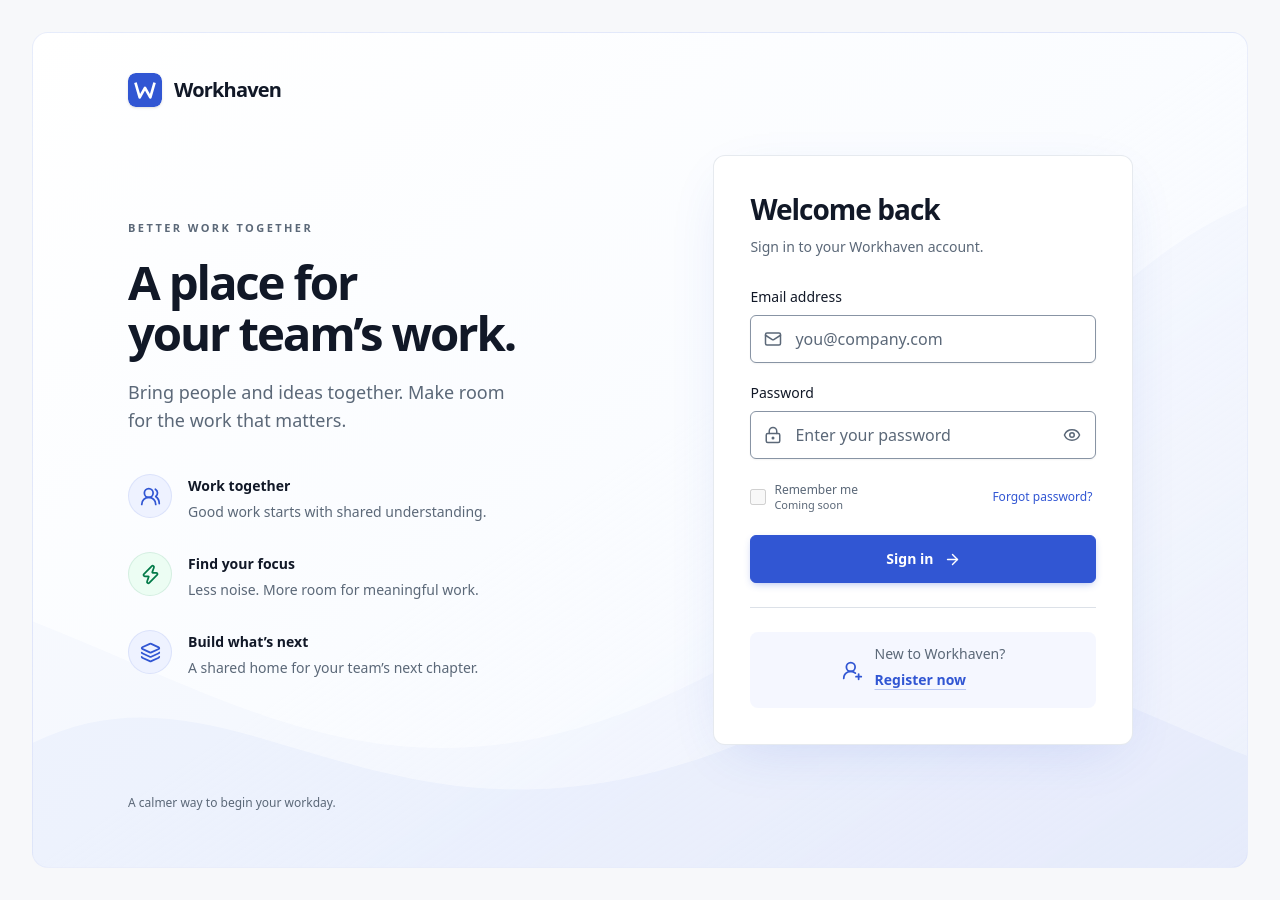
Test: browser session › prevents duplicate submissions and keeps the submit button focused while pending
Type "member@example.test" into the field labelled "Email address" at (923, 339), box [750,315,1096,363]
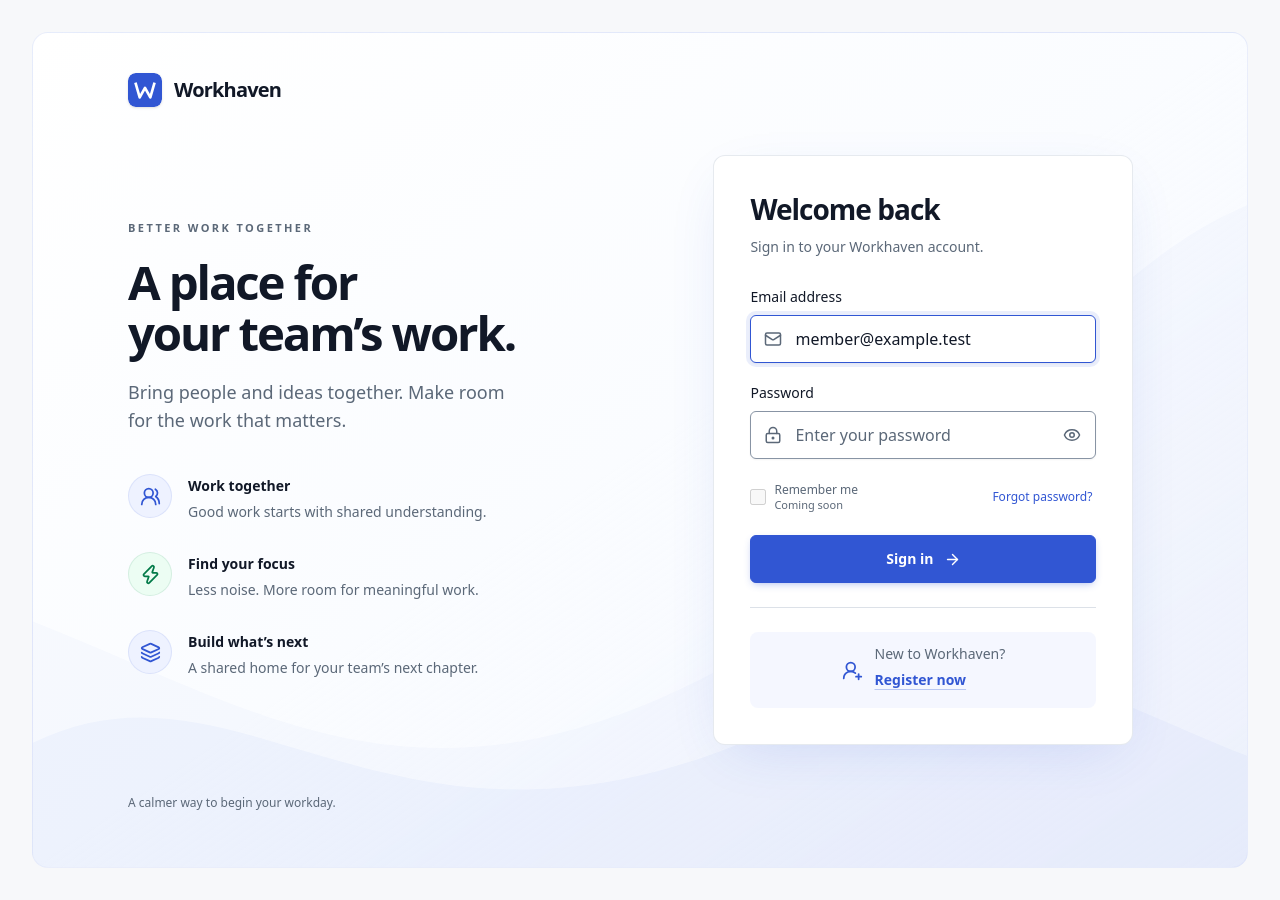
Type " a long test passphrase " into the password field labelled "Password" at (923, 435), box [750,411,1096,459]
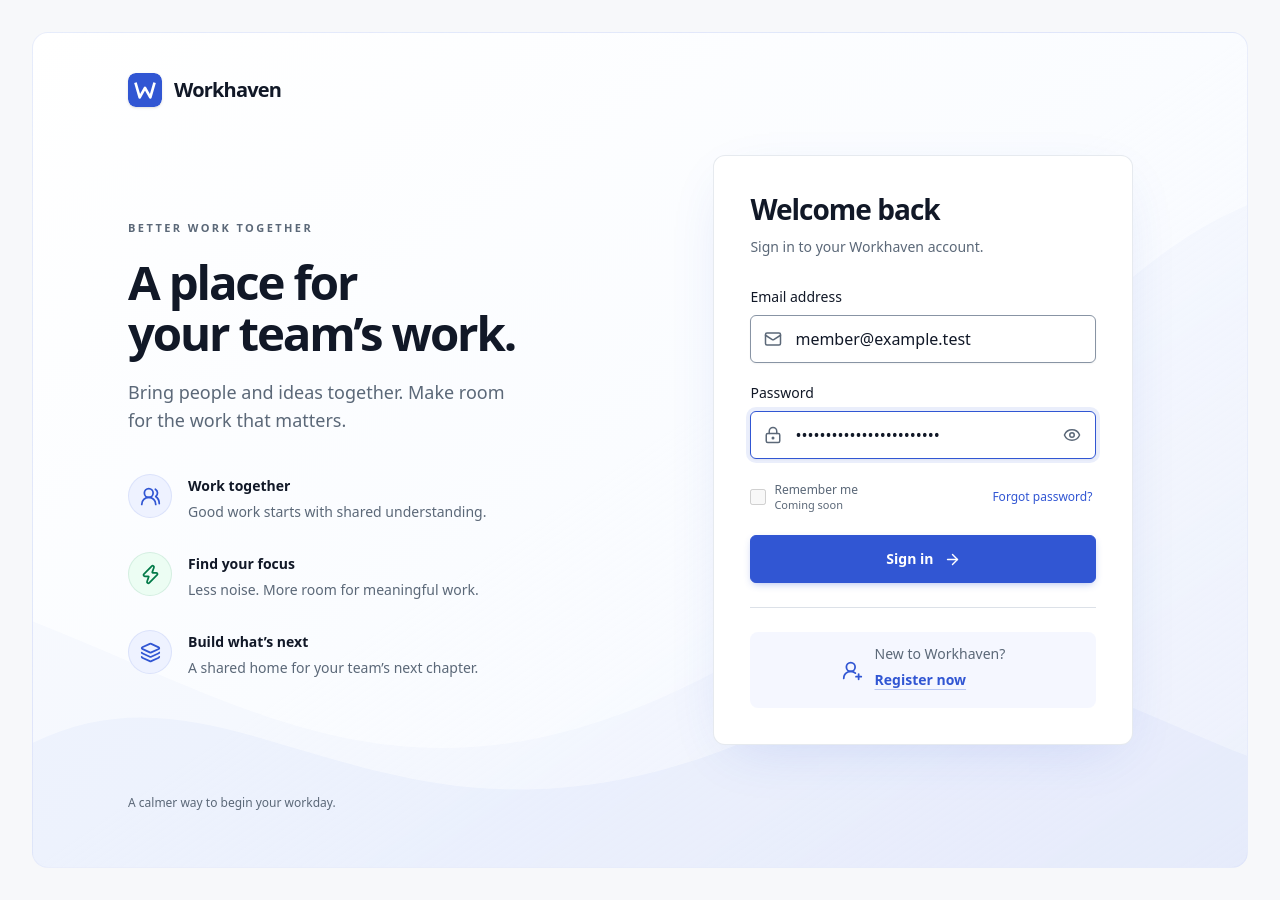
Click the button "Sign in" at (923, 559), box [750,535,1096,583]
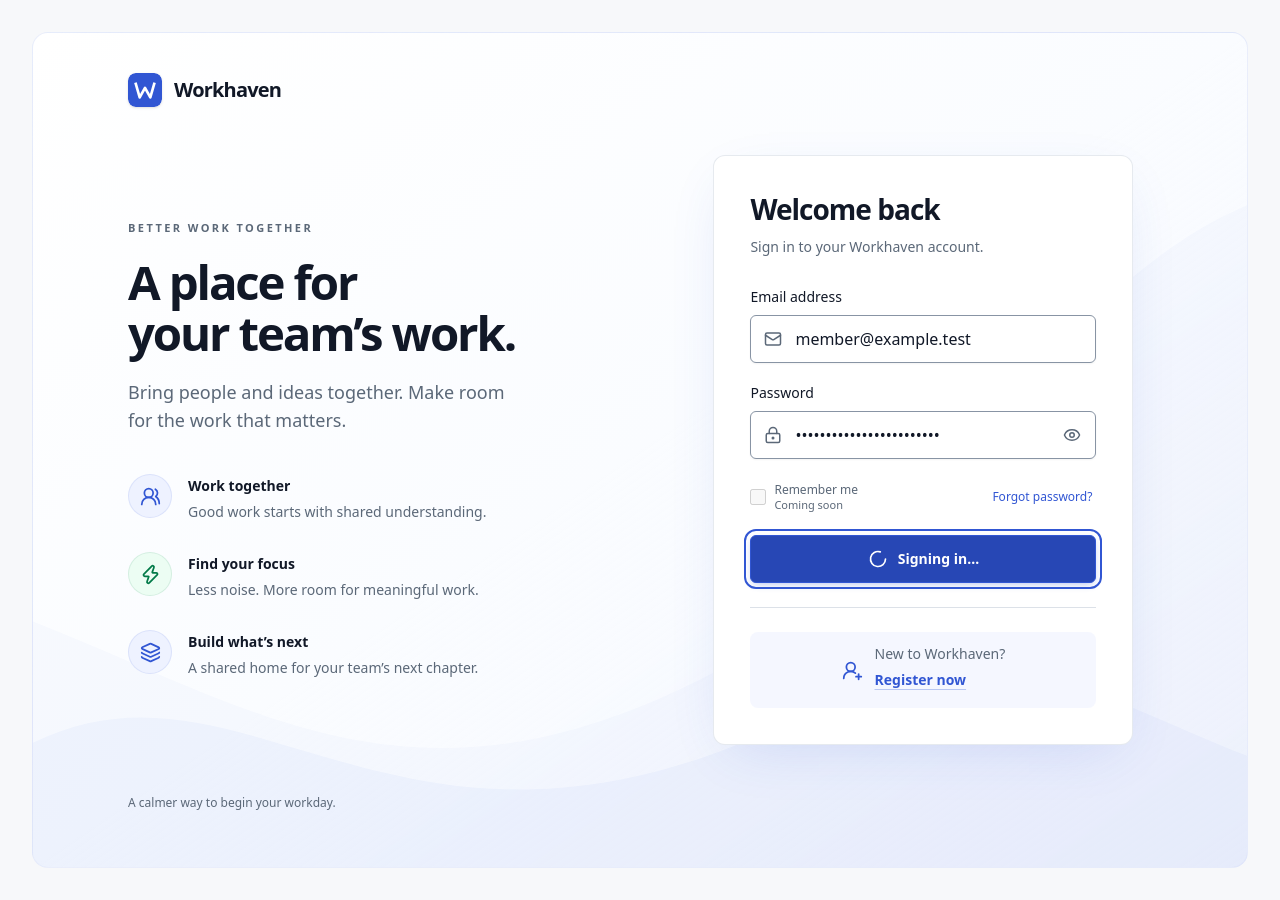
Now the button "Signing in…" is disabled
Click the button "Signing in…" at (923, 559), box [750,535,1096,583]
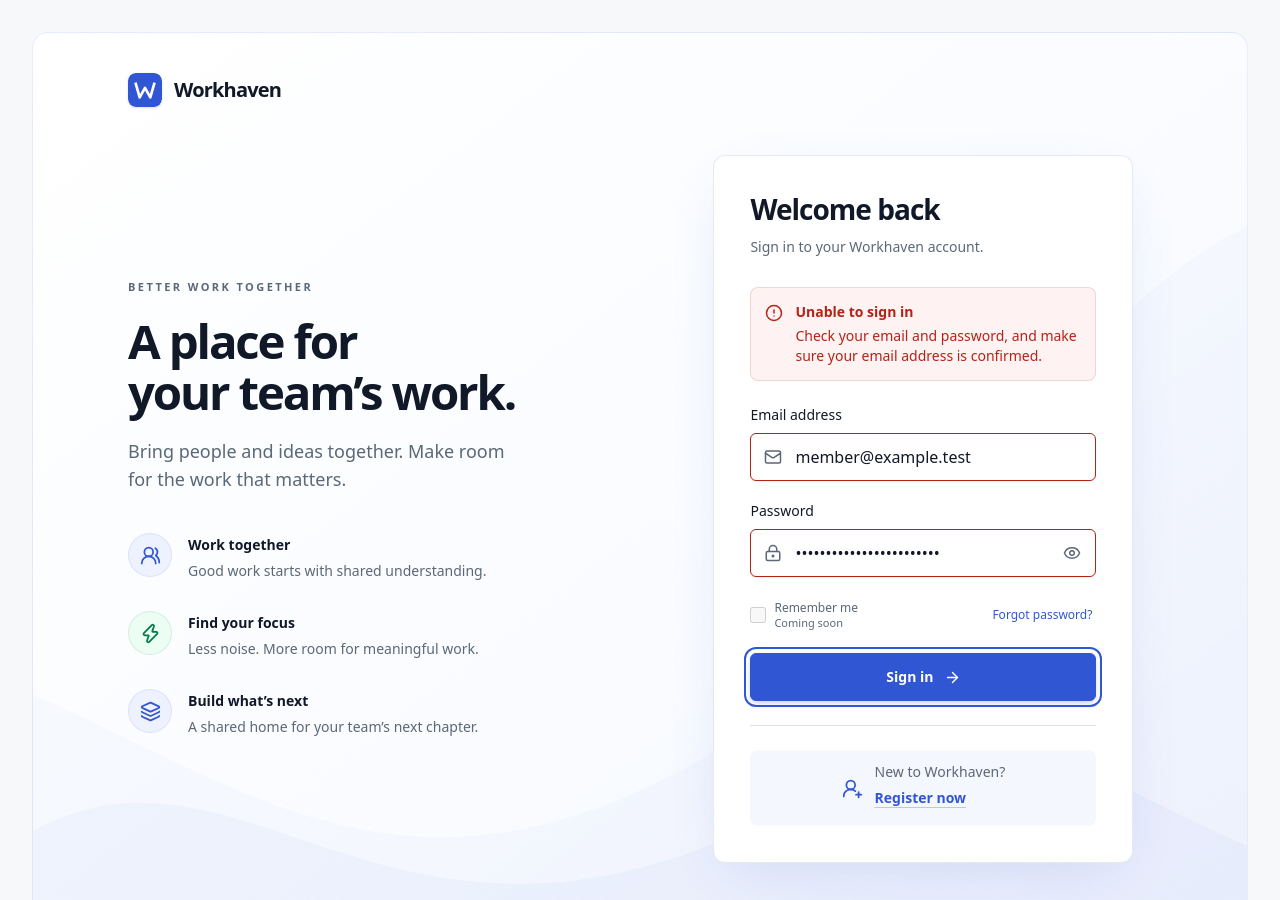
Now the message is shown, box [750,287,1096,381]
